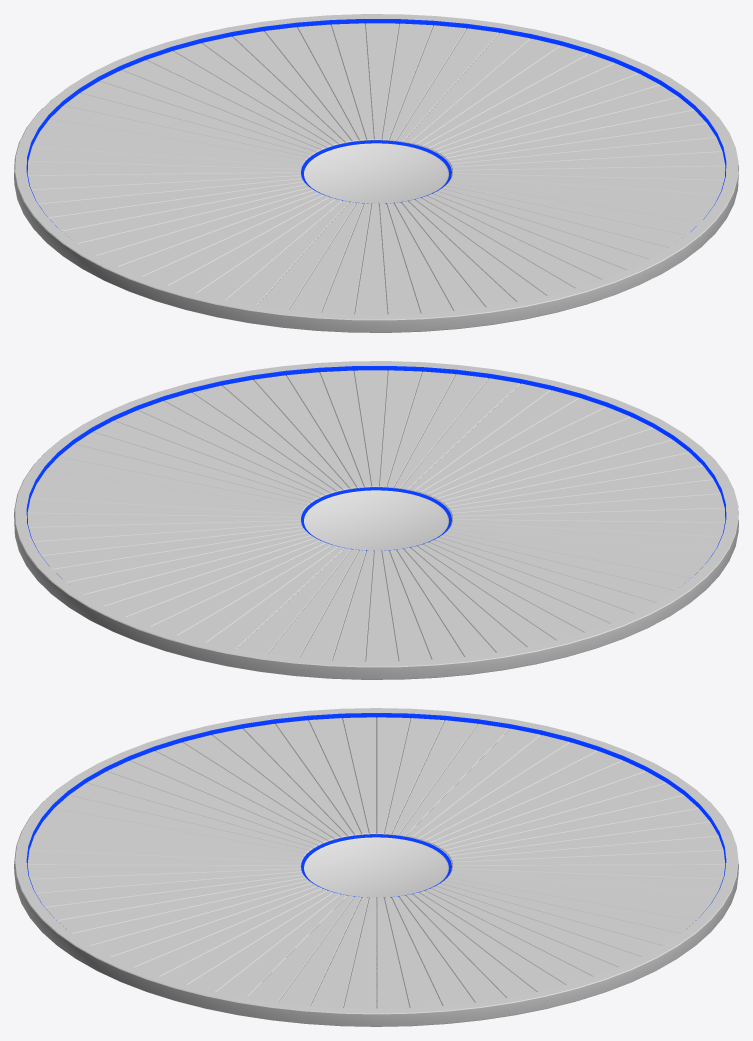
3 views of the same model, one above another, from view 1: azimuth 30°, elevation 25°; view 2: azimuth 150°, elevation 25°; view 3: azimuth 270°, elevation 25° (orthographic).
Visible parts, largest first — view 1: Circle; view 2: Circle; view 3: Circle.
Part boxes in pixels (x1,y1,x2,y2): Circle: [14, 14, 738, 332]; Circle: [14, 361, 738, 679]; Circle: [14, 708, 738, 1026].
Bounding box in the file's own units: 15.06 × 0.3093 × 15.06.
